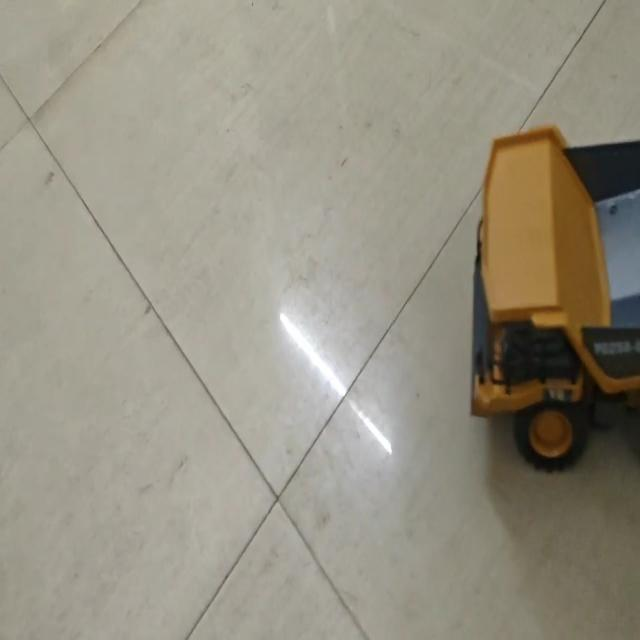dump_truck: (475, 119, 640, 458)
